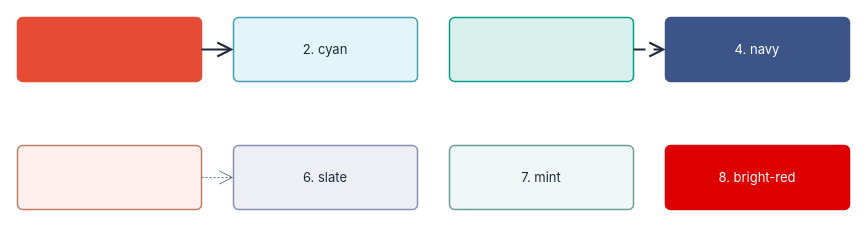
Image size: 868x228. Some labels were removed from this diagram. Each missing label, with the centre of its shape:
1. red: point 109,49
3. teal: point 541,49
5. salmon: point 109,177
